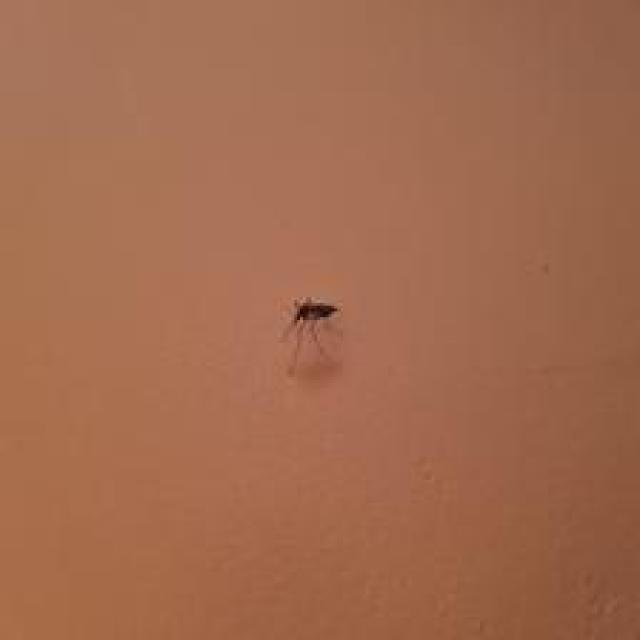Culex: (278, 296, 342, 376)
